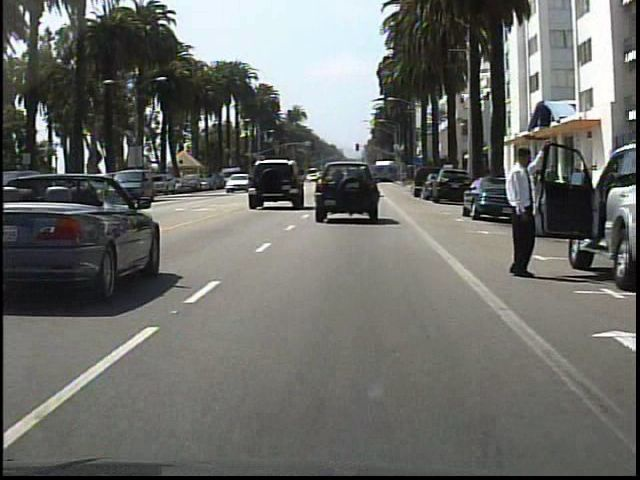person: (492, 137, 552, 284)
